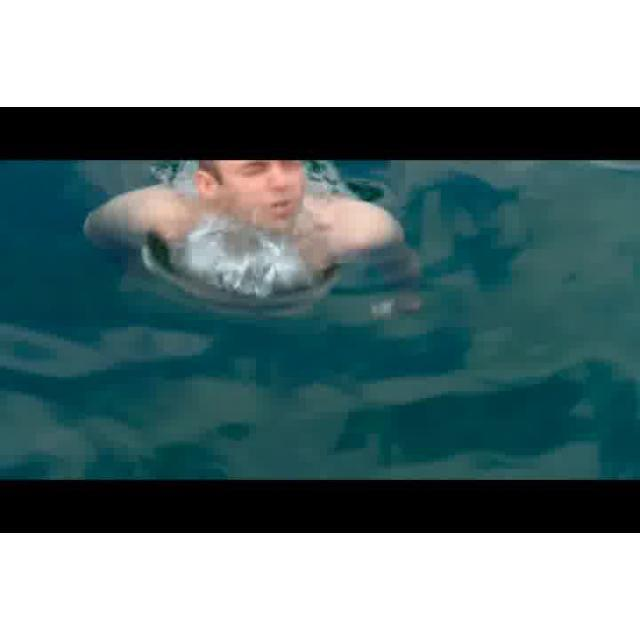human: (91, 160, 414, 297)
